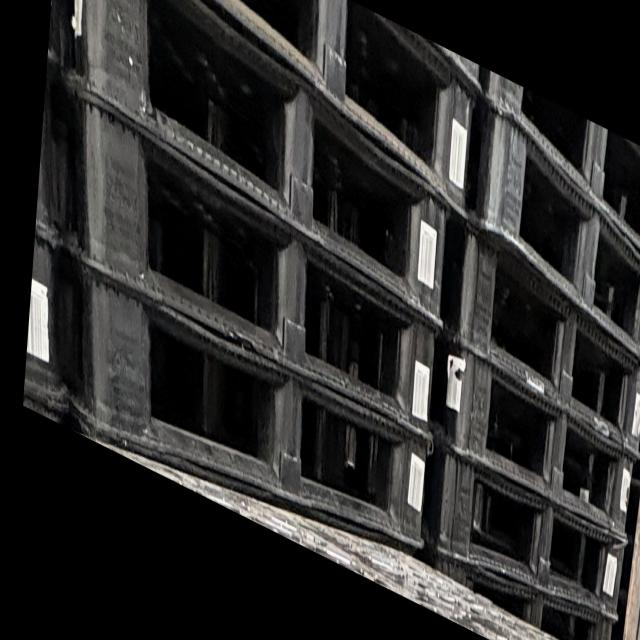igps: (61, 60, 441, 466), (70, 0, 452, 345), (70, 237, 438, 560), (58, 0, 486, 228), (453, 202, 640, 470), (437, 319, 640, 554), (474, 90, 640, 370), (430, 423, 633, 628), (480, 53, 640, 265), (435, 538, 620, 640)
